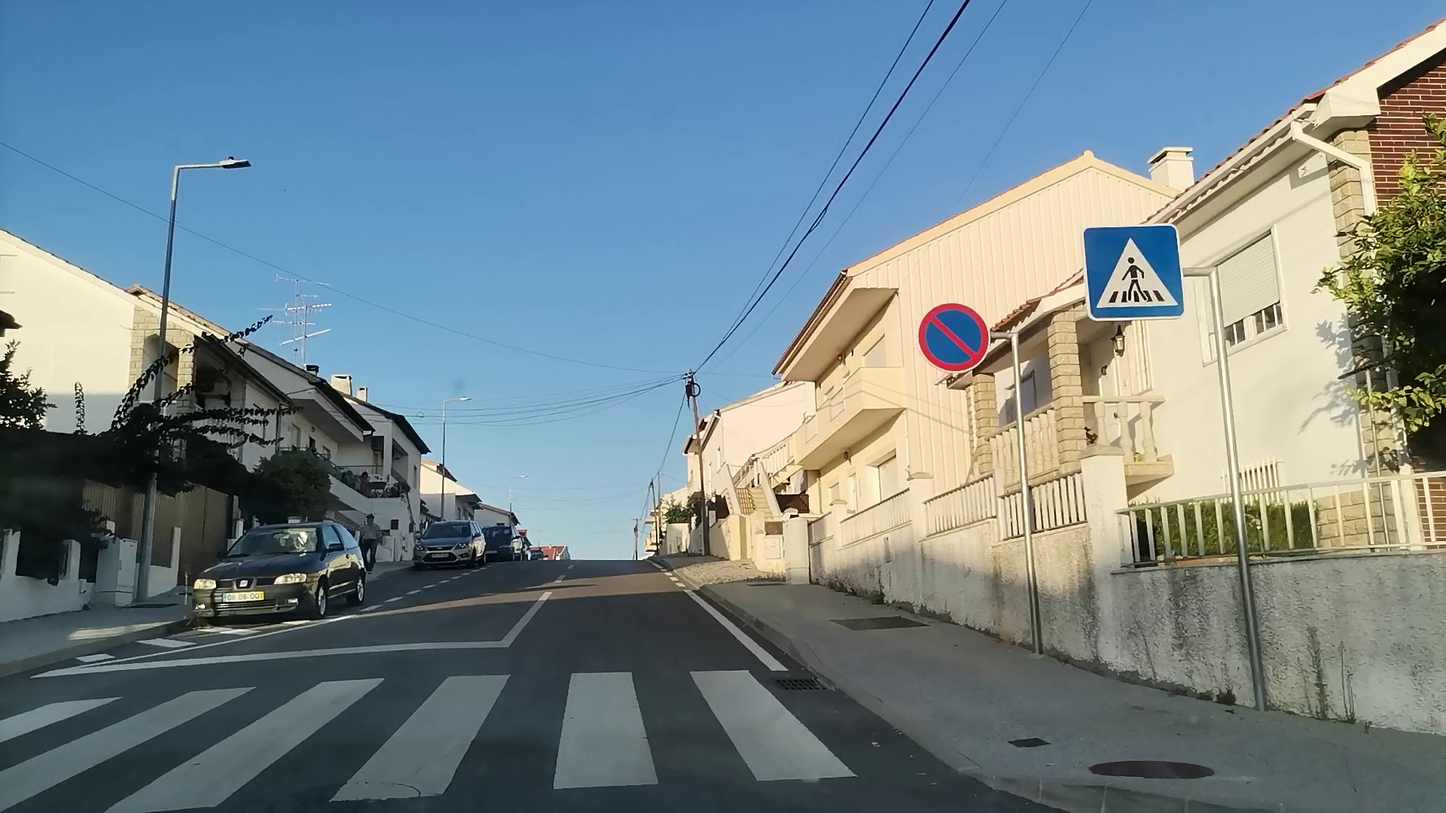Stairs: (0, 669, 889, 802)
